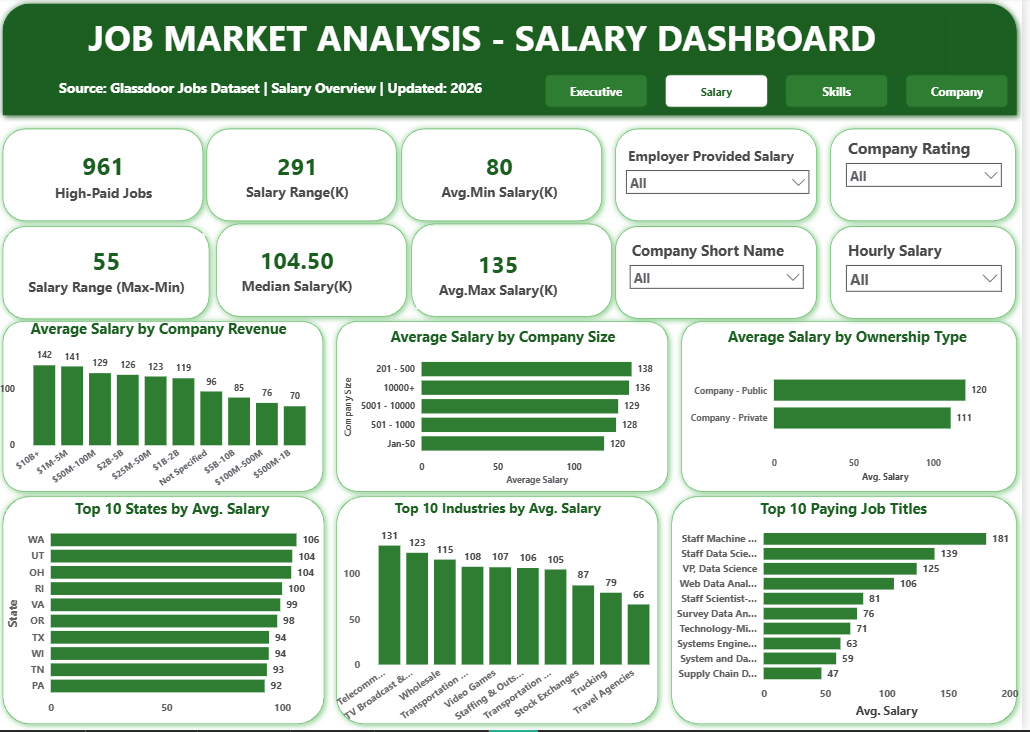

The page's visual inventory and layout, read from the dashboard file:
{"tool":"powerbi","page":{"name":"Salary","canvas":[1400,1000],"ordinal":1},"visuals":[{"type":"shape","box":[0,303.3,299.9,144.9],"z":0},{"type":"cardVisual","fields":{"Data":["Measures (2).Salary Difference"]},"box":[10.2,315.3,281.2,112.5],"z":1000},{"type":"shape","box":[911.7,671.1,489.1,328.9],"z":2000},{"type":"shape","box":[925.4,432.9,475.5,250.5],"z":3000},{"type":"shape","box":[455,671.1,456.7,328.9],"z":4000},{"type":"shape","box":[455,432.9,470.4,250.5],"z":5000},{"type":"shape","box":[0,671.4,456.7,328.9],"z":6000},{"type":"shape","box":[0,432.9,455,250.5],"z":7000},{"type":"shape","box":[1128.8,304.2,271.2,144.2],"z":8000},{"type":"shape","box":[1128.8,170.9,271.2,144.2],"z":9000},{"type":"shape","box":[835.7,304.2,293.2,144.2],"z":10000},{"type":"shape","box":[835.7,170.9,293.2,144.2],"z":11000},{"type":"shape","box":[557.3,299.9,291.4,144.9],"z":12000},{"type":"cardVisual","fields":{"Data":["Measures (2).Average Maximum Salary(K)"]},"box":[566,319.8,238.3,112.9],"z":13000},{"type":"shape","box":[291.4,299.9,277.8,144.9],"z":14000},{"type":"shape","box":[544,170.9,291.6,144.2],"z":15000},{"type":"shape","box":[277.5,170.9,277.5,144.2],"z":16000},{"type":"shape","box":[0,0,1400.3,170.2],"z":17000},{"type":"textbox","box":[27.3,17,1271.3,88.6],"z":18000},{"type":"cardVisual","fields":{"Data":["Measures (2).Median Salary(K)"]},"box":[299.5,315.1,221.1,112.9],"z":19000},{"type":"cardVisual","fields":{"Data":["Measures (2).Average Minimum Salary(K)"]},"box":[559.7,185,255.6,114.5],"z":20000},{"type":"cardVisual","fields":{"Data":["Measures (2).Salary Range(K)"]},"box":[291.6,186.6,239.9,114.5],"z":21000},{"type":"slicer","fields":{"Values":["Job_Market_Analysis.Company Rating"]},"box":[1149.2,186.6,232,101.9],"z":22000},{"type":"slicer","fields":{"Values":["Job_Market_Analysis.Hourly Salary"]},"box":[1149.2,327.7,232,100.3],"z":23000},{"type":"slicer","fields":{"Values":["Job_Market_Analysis.Company Short Name"]},"box":[854.5,327.7,257.1,90.9],"z":24000},{"type":"clusteredBarChart","title":"Top 10 States by Avg. Salary ","fields":{"Category":["Job_Market_Analysis.State"],"Y":["Measures (2).Average Salary(K)"]},"box":[10.2,683.4,460.1,305],"z":25000},{"type":"clusteredColumnChart","title":"Top 10 Industries by Avg. Salary ","fields":{"Category":["Job_Market_Analysis.Industry"],"Y":["Measures (2).Average Salary(K)"]},"box":[456.7,683.4,455,317],"z":26000},{"type":"clusteredBarChart","title":"Top 10 Paying Job Titles","fields":{"Category":["Job_Market_Analysis.Job Title"],"Y":["Measures (2).Average Salary(K)"]},"box":[911.7,683.4,487.4,305],"z":27000},{"type":"clusteredBarChart","title":"Average Salary by Ownership Type","fields":{"Category":["Job_Market_Analysis.Ownership Type"],"Y":["Measures (2).Average Salary(K)"]},"box":[940.7,448.2,439.7,218.1],"z":28000},{"type":"clusteredColumnChart","title":"Average Salary by Company Revenue","fields":{"Y":["Measures (2).Average Salary(K)"],"Category":["Job_Market_Analysis.Revenue Short"]},"box":[0,438,443.1,245.4],"z":29000},{"type":"clusteredBarChart","title":"Average Salary by Company Size","fields":{"Category":["Job_Market_Analysis.Company Size"],"Y":["Measures (2).Average Salary(K)"]},"box":[470.4,448.2,441.4,223.2],"z":30000},{"type":"slicer","fields":{"Values":["Job_Market_Analysis.Employer Provided Salary"]},"box":[848.2,199.1,269.7,92.5],"z":31000},{"type":"pageNavigator","box":[748.8,105.3,632.1,45.4],"z":32000},{"type":"textbox","box":[47,105.3,653.2,45.4],"z":33000},{"type":"shape","box":[0,170.9,291.6,144.2],"z":34000},{"type":"cardVisual","fields":{"Data":["Measures (2).High-Paying Jobs"]},"box":[28.2,186.6,235.2,114.5],"z":35000}]}

Visuals, with their boxes in screenshot pixels (x1, y1, x2, y2), scaled from the page's 1400x1000 canvas onto the 1030x732 screenshot:
shape: 0/222/221/328
cardVisual - Measures (2).Salary Difference: 8/231/214/313
shape: 671/491/1029/731
shape: 681/317/1029/500
shape: 335/491/671/731
shape: 335/317/681/500
shape: 0/491/336/731
shape: 0/317/335/500
shape: 830/223/1029/328
shape: 830/125/1029/231
shape: 615/223/831/328
shape: 615/125/831/231
shape: 410/220/624/326
cardVisual - Measures (2).Average Maximum Salary(K): 416/234/592/317
shape: 214/220/419/326
shape: 400/125/615/231
shape: 204/125/408/231
shape: 0/0/1029/125
textbox: 20/12/955/77
cardVisual - Measures (2).Median Salary(K): 220/231/383/313
cardVisual - Measures (2).Average Minimum Salary(K): 412/135/600/219
cardVisual - Measures (2).Salary Range(K): 215/137/391/220
slicer - Job_Market_Analysis.Company Rating: 845/137/1016/211
slicer - Job_Market_Analysis.Hourly Salary: 845/240/1016/313
slicer - Job_Market_Analysis.Company Short Name: 629/240/818/306
"Top 10 States by Avg. Salary " clusteredBarChart: 8/500/346/724
"Top 10 Industries by Avg. Salary " clusteredColumnChart: 336/500/671/731
"Top 10 Paying Job Titles" clusteredBarChart: 671/500/1029/724
"Average Salary by Ownership Type" clusteredBarChart: 692/328/1016/488
"Average Salary by Company Revenue" clusteredColumnChart: 0/321/326/500
"Average Salary by Company Size" clusteredBarChart: 346/328/671/491
slicer - Job_Market_Analysis.Employer Provided Salary: 624/146/822/213
pageNavigator: 551/77/1016/110
textbox: 35/77/515/110
shape: 0/125/215/231
cardVisual - Measures (2).High-Paying Jobs: 21/137/194/220
